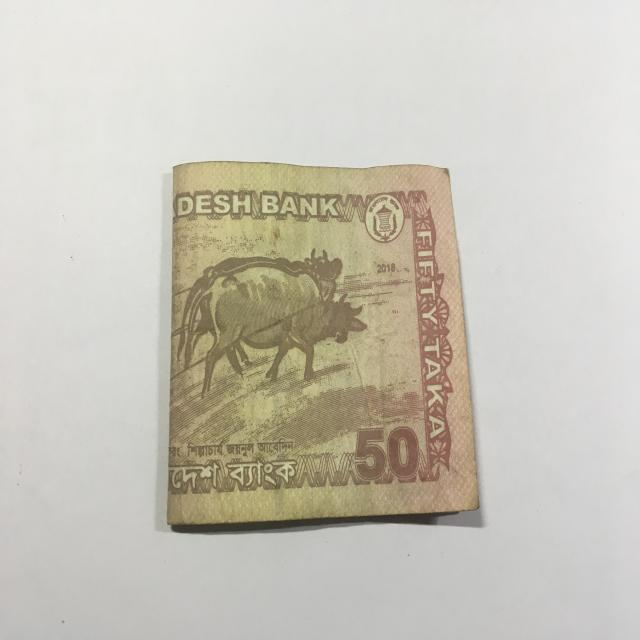Taka: (157, 148, 487, 536)
